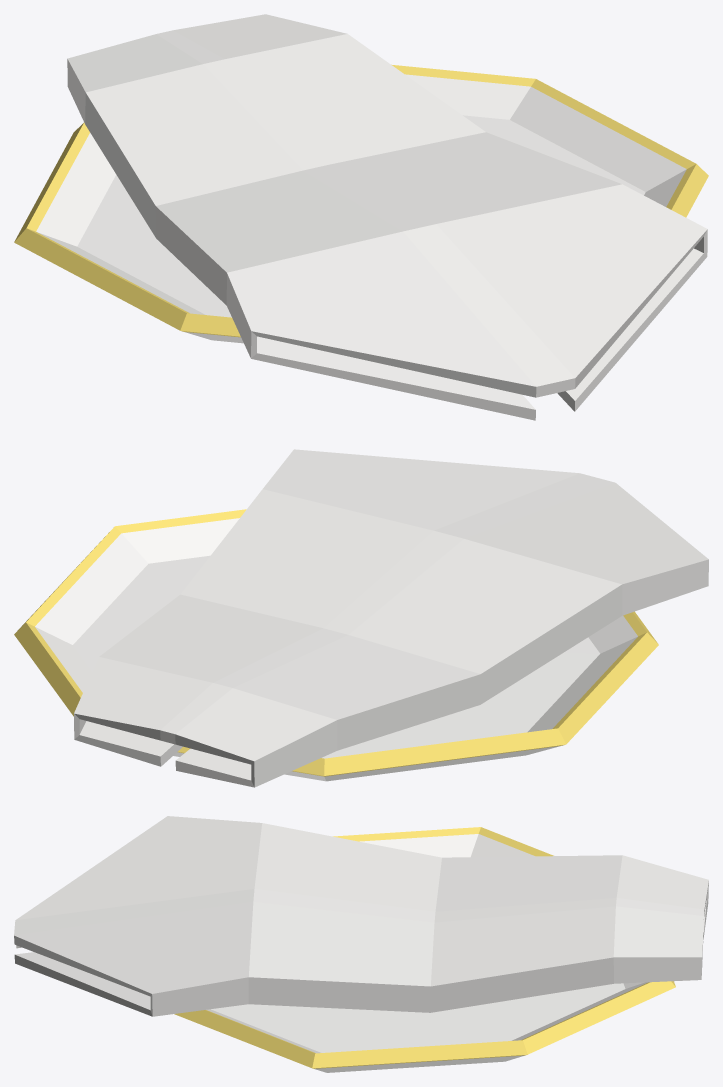
File: Plate_with_a_napkin.fbx
The picture shows the model from 3 angles, top to bottom: view 1: azimuth 30°, elevation 25°; view 2: azimuth 150°, elevation 25°; view 3: azimuth 270°, elevation 25°; orthographic projection. The views are drawn at different scales.
Visible parts, largest first — view 1: Plate_with_a_napkin; view 2: Plate_with_a_napkin; view 3: Plate_with_a_napkin.
Part boxes in pixels (bbox=[...]): Plate_with_a_napkin: bbox=[14, 14, 708, 420]; Plate_with_a_napkin: bbox=[14, 449, 708, 787]; Plate_with_a_napkin: bbox=[14, 816, 708, 1072].
Bounding box in the file's own units: 21.95 × 27.45 × 2.99.
